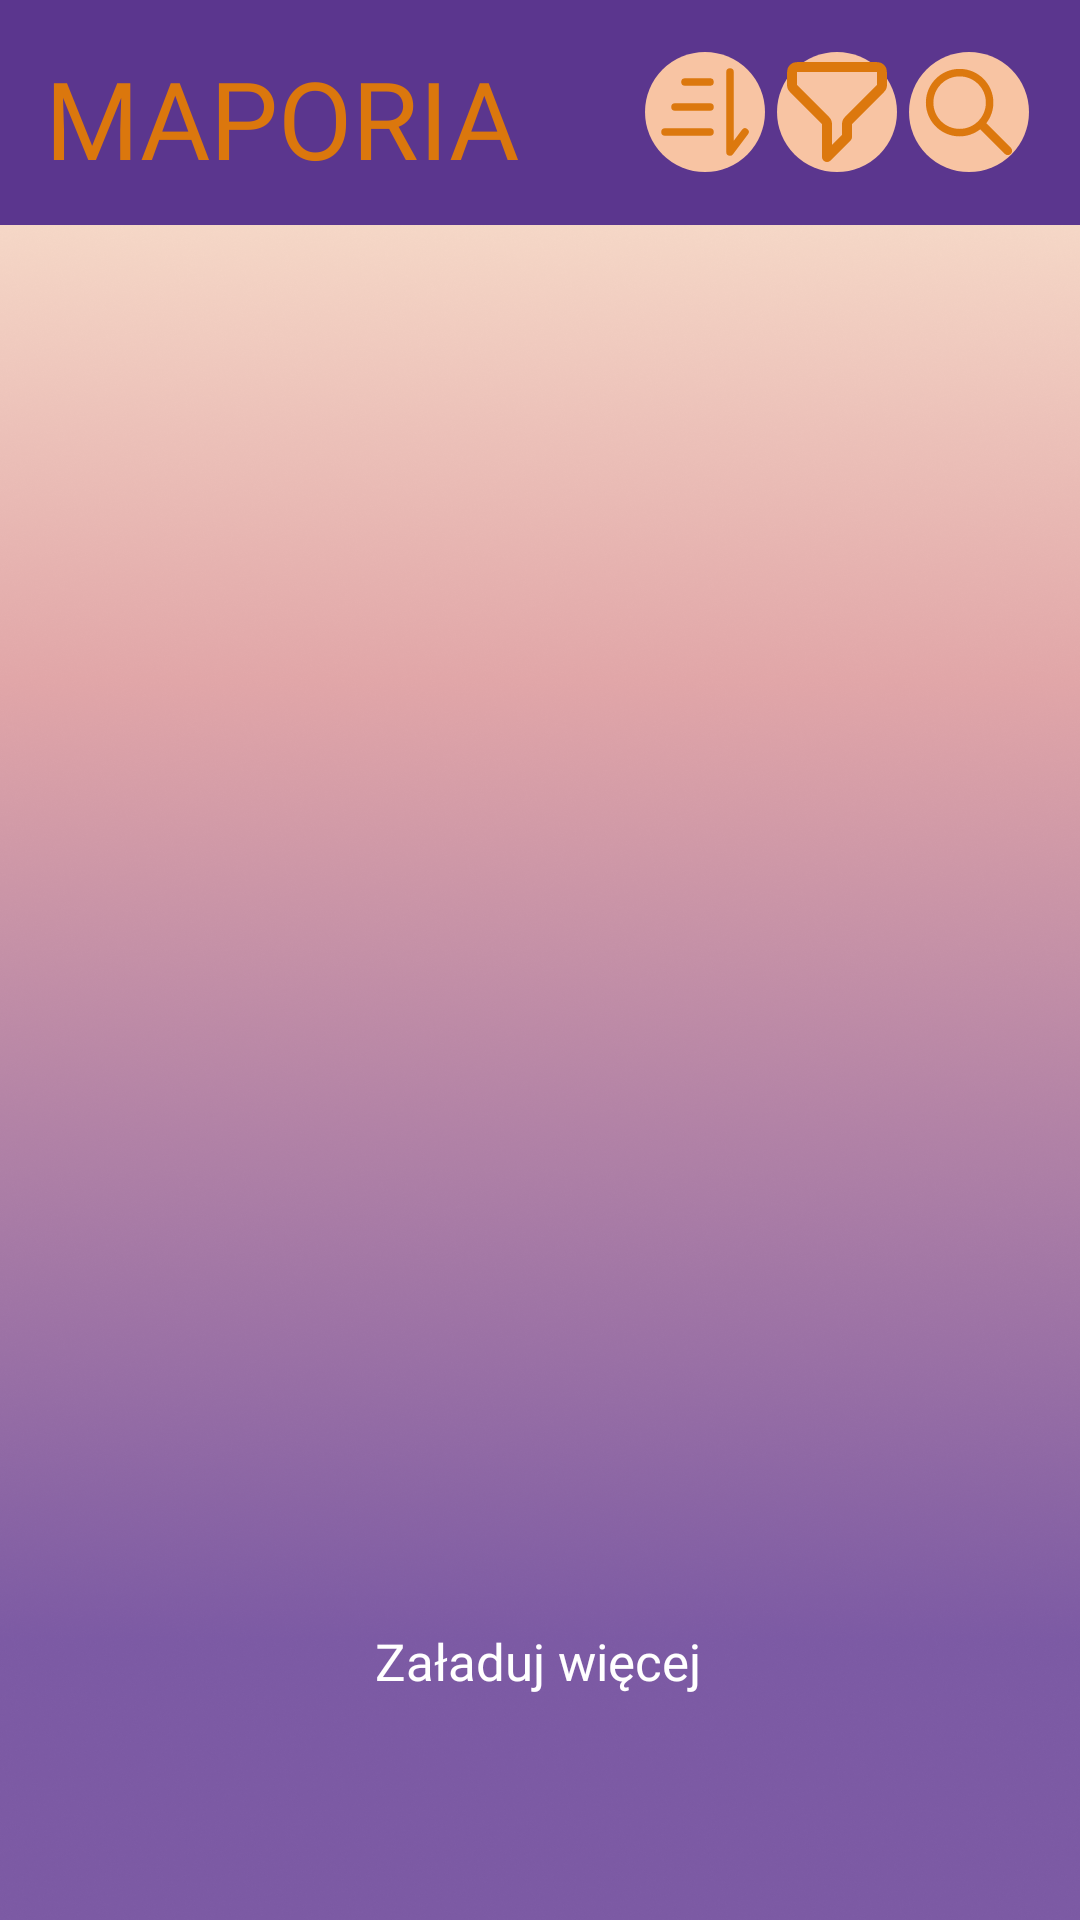

Locate icon controls on the screen. Image size 1080 × 1920, boxes as (x1, y1, x2, y2).
filter: (777, 52, 897, 172)
find: (909, 52, 1029, 172)
sort: (645, 52, 765, 172)
